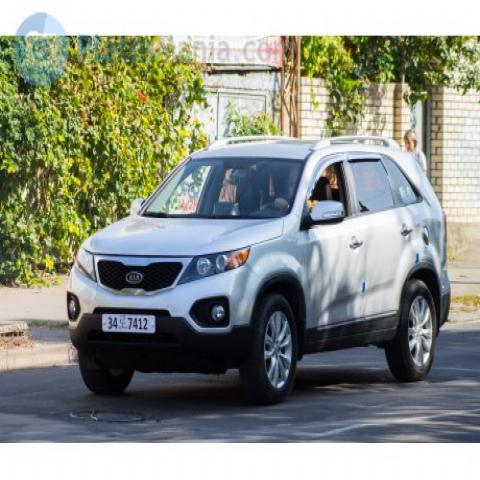LP: (85, 301, 160, 342)
